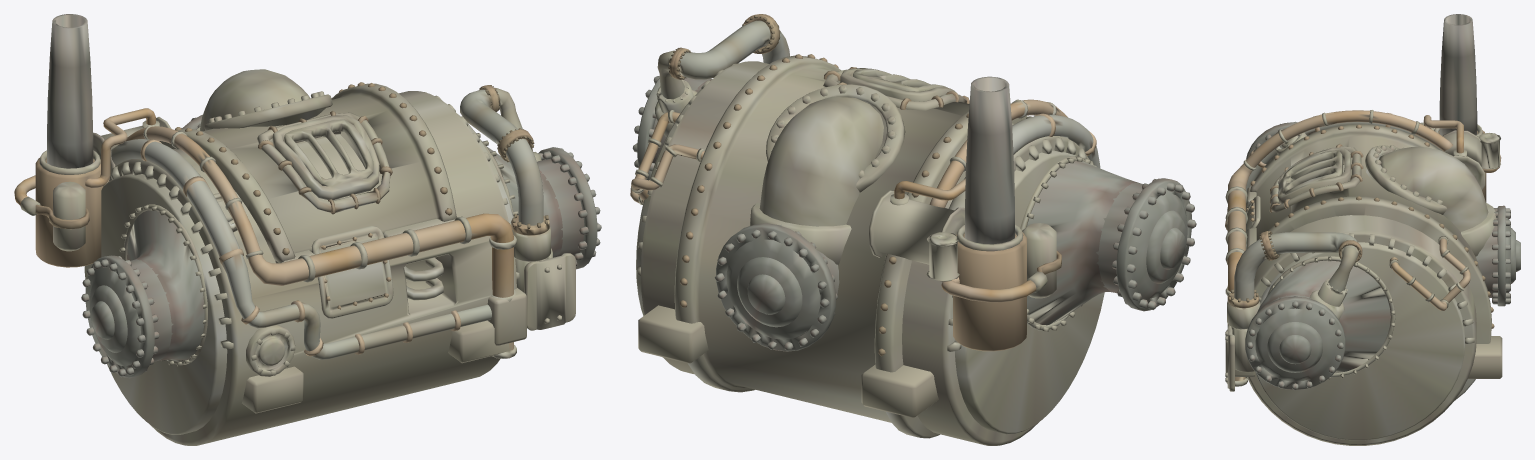
Rendered from boiler.glb.
3 views of the same model, side by side, from view 1: azimuth 30°, elevation 25°; view 2: azimuth 150°, elevation 25°; view 3: azimuth 270°, elevation 25° (orthographic). The views are drawn at different scales.
Parts seen in each view (by area): view 1: modelo; view 2: modelo; view 3: modelo.
Boxes of the visible parts, x1,y1,x2,y2 form: modelo: (14,14,601,445); modelo: (630,14,1196,445); modelo: (1225,14,1520,445).
Bounding box in the file's own units: 6.45 × 4.8 × 4.23.
